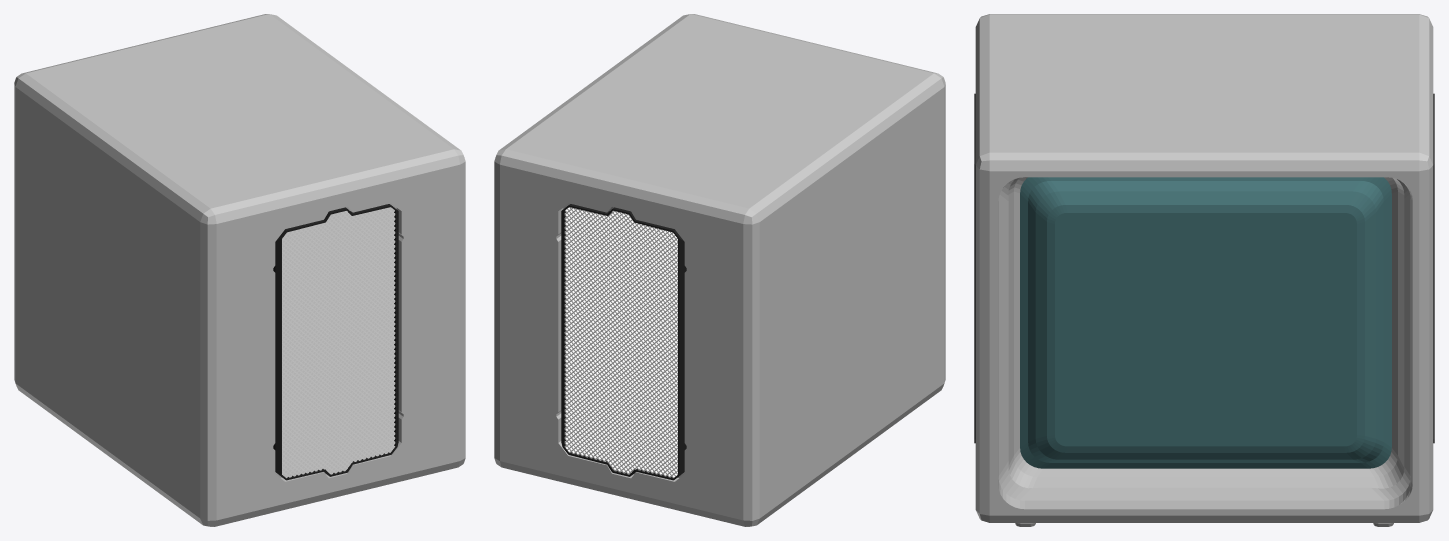
Rendered from crt3.fbx.
The picture shows the model from 3 angles, left to right: view 1: azimuth 30°, elevation 25°; view 2: azimuth 150°, elevation 25°; view 3: azimuth 270°, elevation 25°; orthographic projection. The views are drawn at different scales.
Parts seen in each view (by area): view 1: Body.001, Grating_Plate_Plane.001, Grating_Plate_Cube.002; view 2: Body.001, Grating_Plate_Plane.001, Grating_Plate_Cube.002; view 3: Body.001, Grating_Plate_Cube.002.
Part boxes in pixels (x1=…): Body.001: x1=14, y1=14, x2=465, y2=526; Grating_Plate_Plane.001: x1=282, y1=207, x2=395, y2=478; Grating_Plate_Cube.002: x1=273, y1=204, x2=398, y2=480; Body.001: x1=494, y1=14, x2=945, y2=526; Grating_Plate_Plane.001: x1=564, y1=207, x2=677, y2=478; Grating_Plate_Cube.002: x1=561, y1=204, x2=686, y2=480; Body.001: x1=975, y1=14, x2=1433, y2=522; Grating_Plate_Cube.002: x1=974, y1=93, x2=1434, y2=443.
Size of the model in its own units: 196 by 234 by 255.
